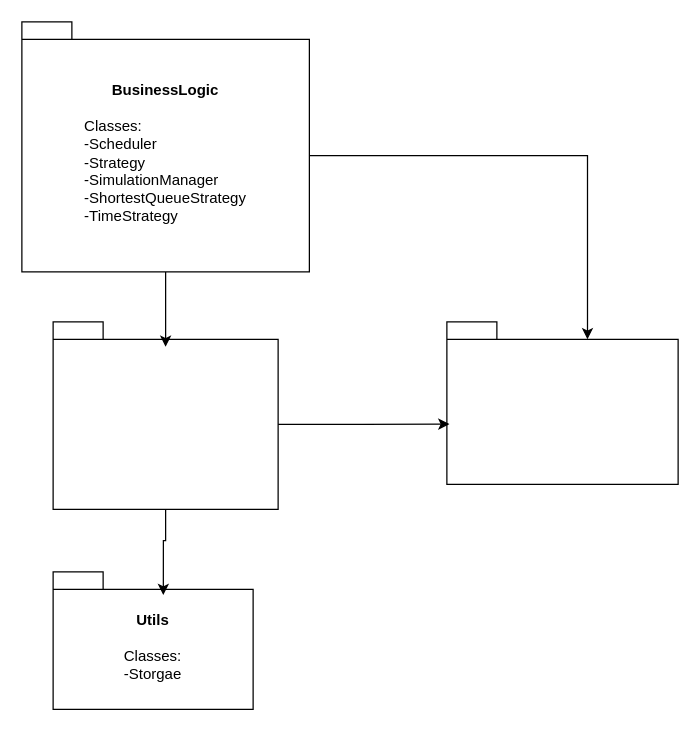
This 700x731 diagram has some shape labels left out. Each missing label, with the centre of its shape:
GUI Classes: -Animation -SimulationFrame: pixel 165 415
Model Classes: -Server -Task: pixel 562 402
